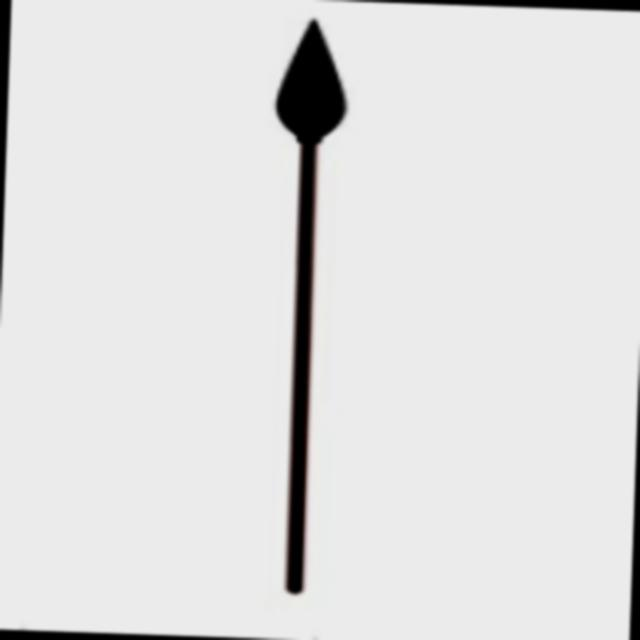spear: (222, 6, 421, 608)
